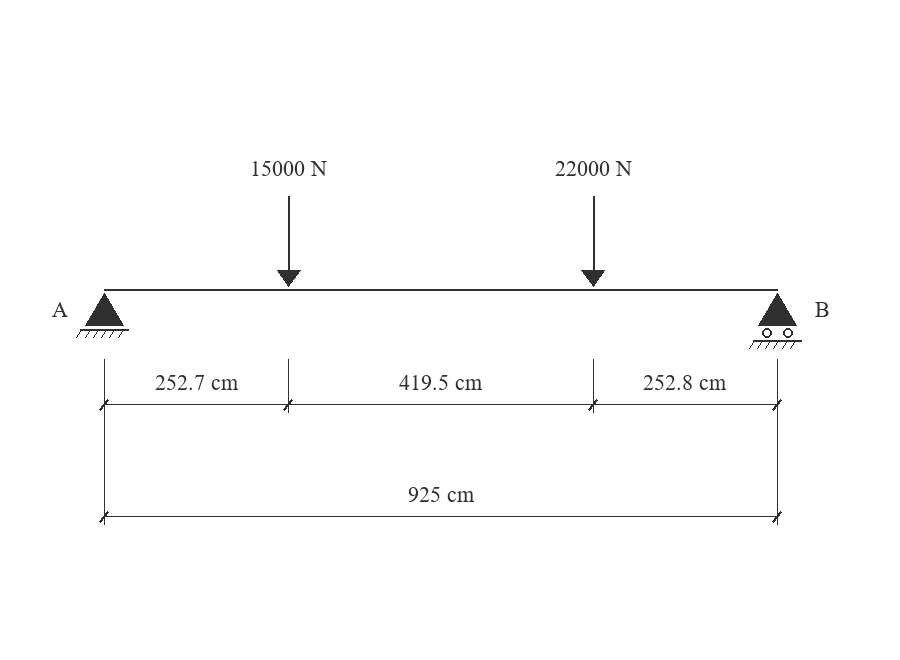pin_support: (76, 293, 129, 338)
point_load: (277, 196, 301, 287), (581, 196, 605, 287)
roller_support: (749, 293, 802, 349)
